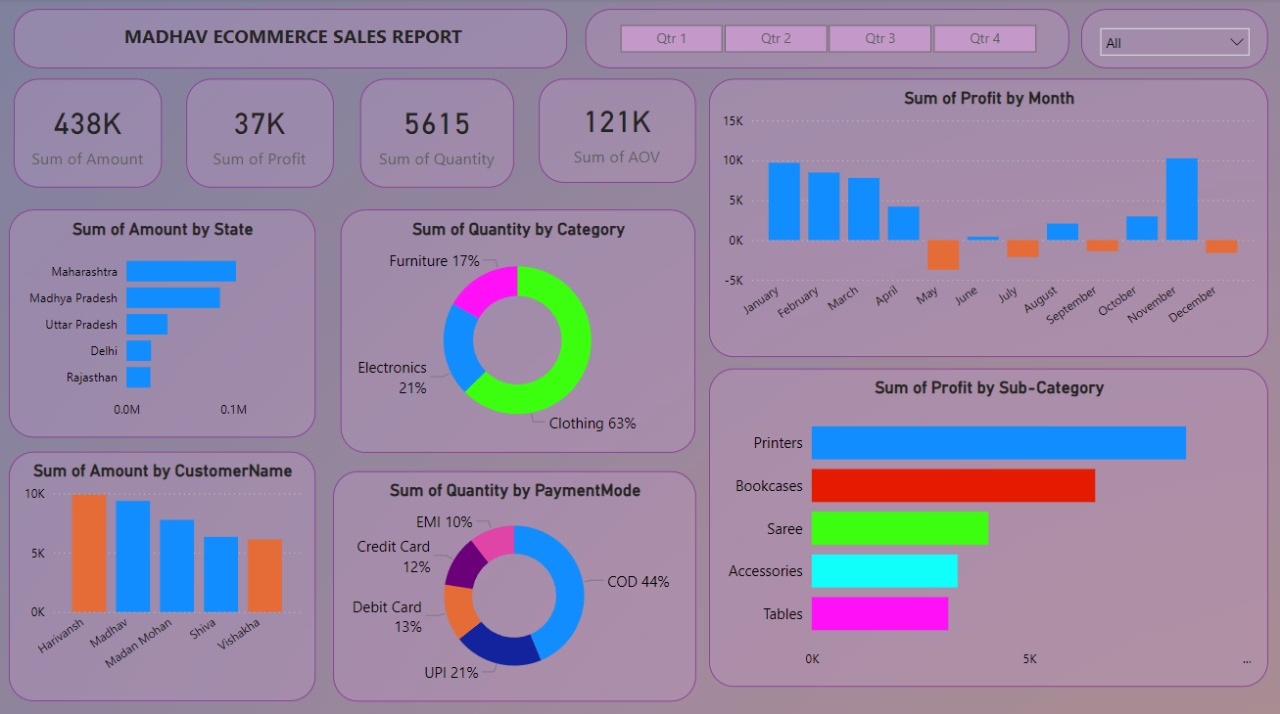

What the dashboard file says about the page in this screenshot:
{"tool":"powerbi","page":{"name":"Page 1","canvas":[1280,720],"ordinal":0},"visuals":[{"type":"textbox","box":[15.1,11,553,59],"z":0},{"type":"columnChart","fields":{"Y":["Sum(Details.Profit)"],"Category":["Orders.Order Date.Variation.Date Hierarchy.Month"]},"box":[709.4,81,558.5,278.6],"z":1000},{"type":"barChart","fields":{"Category":["Details.Sub-Category"],"Y":["Sum(Details.Profit)"]},"box":[709.4,370.5,558.5,318.4],"z":2000},{"type":"donutChart","fields":{"Category":["Details.Category"],"Y":["Sum(Details.Quantity)"]},"box":[341.7,211.3,354,242.9],"z":3000},{"type":"donutChart","fields":{"Y":["Sum(Details.Quantity)"],"Category":["Details.PaymentMode"]},"box":[333.4,473.4,362.3,230.5],"z":4000},{"type":"card","fields":{"Values":["Sum(Details.Amount)"]},"box":[15.1,81,148.2,108.4],"z":5000},{"type":"card","fields":{"Values":["Sum(Details.Profit)"]},"box":[186.6,81,146.8,108.4],"z":6000},{"type":"card","fields":{"Values":["Sum(Details.Quantity)"]},"box":[360.9,81,153.7,108.4],"z":7000},{"type":"card","fields":{"Values":["Sum(Details.AOV)"]},"box":[539.3,81,156.4,104.3],"z":8000},{"type":"barChart","fields":{"Category":["Orders.State"],"Y":["Sum(Details.Amount)"]},"box":[9.6,211.3,306,227.8],"z":9000},{"type":"columnChart","fields":{"Category":["Orders.CustomerName"],"Y":["Sum(Details.Amount)"]},"box":[9.6,454.2,306,249.7],"z":10000},{"type":"slicer","fields":{"Values":["Orders.Order Date.Variation.Date Hierarchy.Quarter"]},"box":[585.9,11,483,59],"z":10001},{"type":"slicer","fields":{"Values":["Orders.State"]},"box":[1081.3,11,186.6,59],"z":10002}]}

Visuals, with their boxes in screenshot pixels (x1, y1, x2, y2), scaled from the page's 1280x720 canvas onto the 1280x714 screenshot:
textbox: [15,11,568,69]
columnChart - Sum(Details.Profit) x Orders.Order Date.Variation.Date Hierarchy.Month: [709,80,1268,357]
barChart - Details.Sub-Category x Sum(Details.Profit): [709,367,1268,683]
donutChart - Details.Category x Sum(Details.Quantity): [342,210,696,450]
donutChart - Sum(Details.Quantity) x Details.PaymentMode: [333,469,696,698]
card - Sum(Details.Amount): [15,80,163,188]
card - Sum(Details.Profit): [187,80,333,188]
card - Sum(Details.Quantity): [361,80,515,188]
card - Sum(Details.AOV): [539,80,696,184]
barChart - Orders.State x Sum(Details.Amount): [10,210,316,435]
columnChart - Orders.CustomerName x Sum(Details.Amount): [10,450,316,698]
slicer - Orders.Order Date.Variation.Date Hierarchy.Quarter: [586,11,1069,69]
slicer - Orders.State: [1081,11,1268,69]
